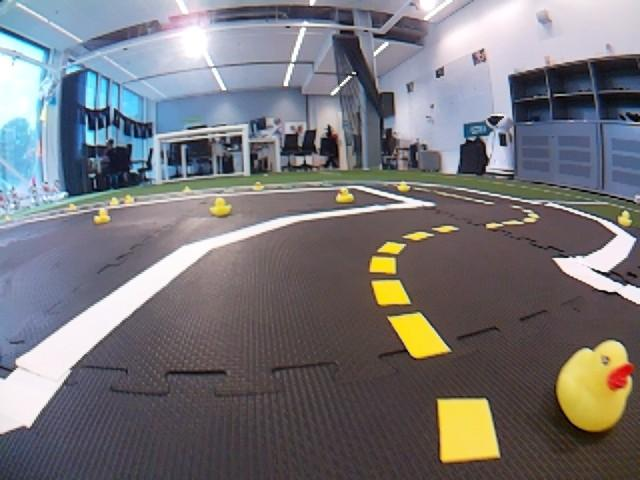Duckies: (554, 341, 636, 436), (210, 198, 232, 215), (94, 208, 110, 224), (336, 189, 354, 203), (617, 211, 632, 226), (397, 181, 410, 192), (252, 181, 263, 191), (123, 194, 133, 203), (109, 198, 119, 206), (183, 186, 192, 192), (70, 203, 77, 210), (5, 216, 12, 222)
